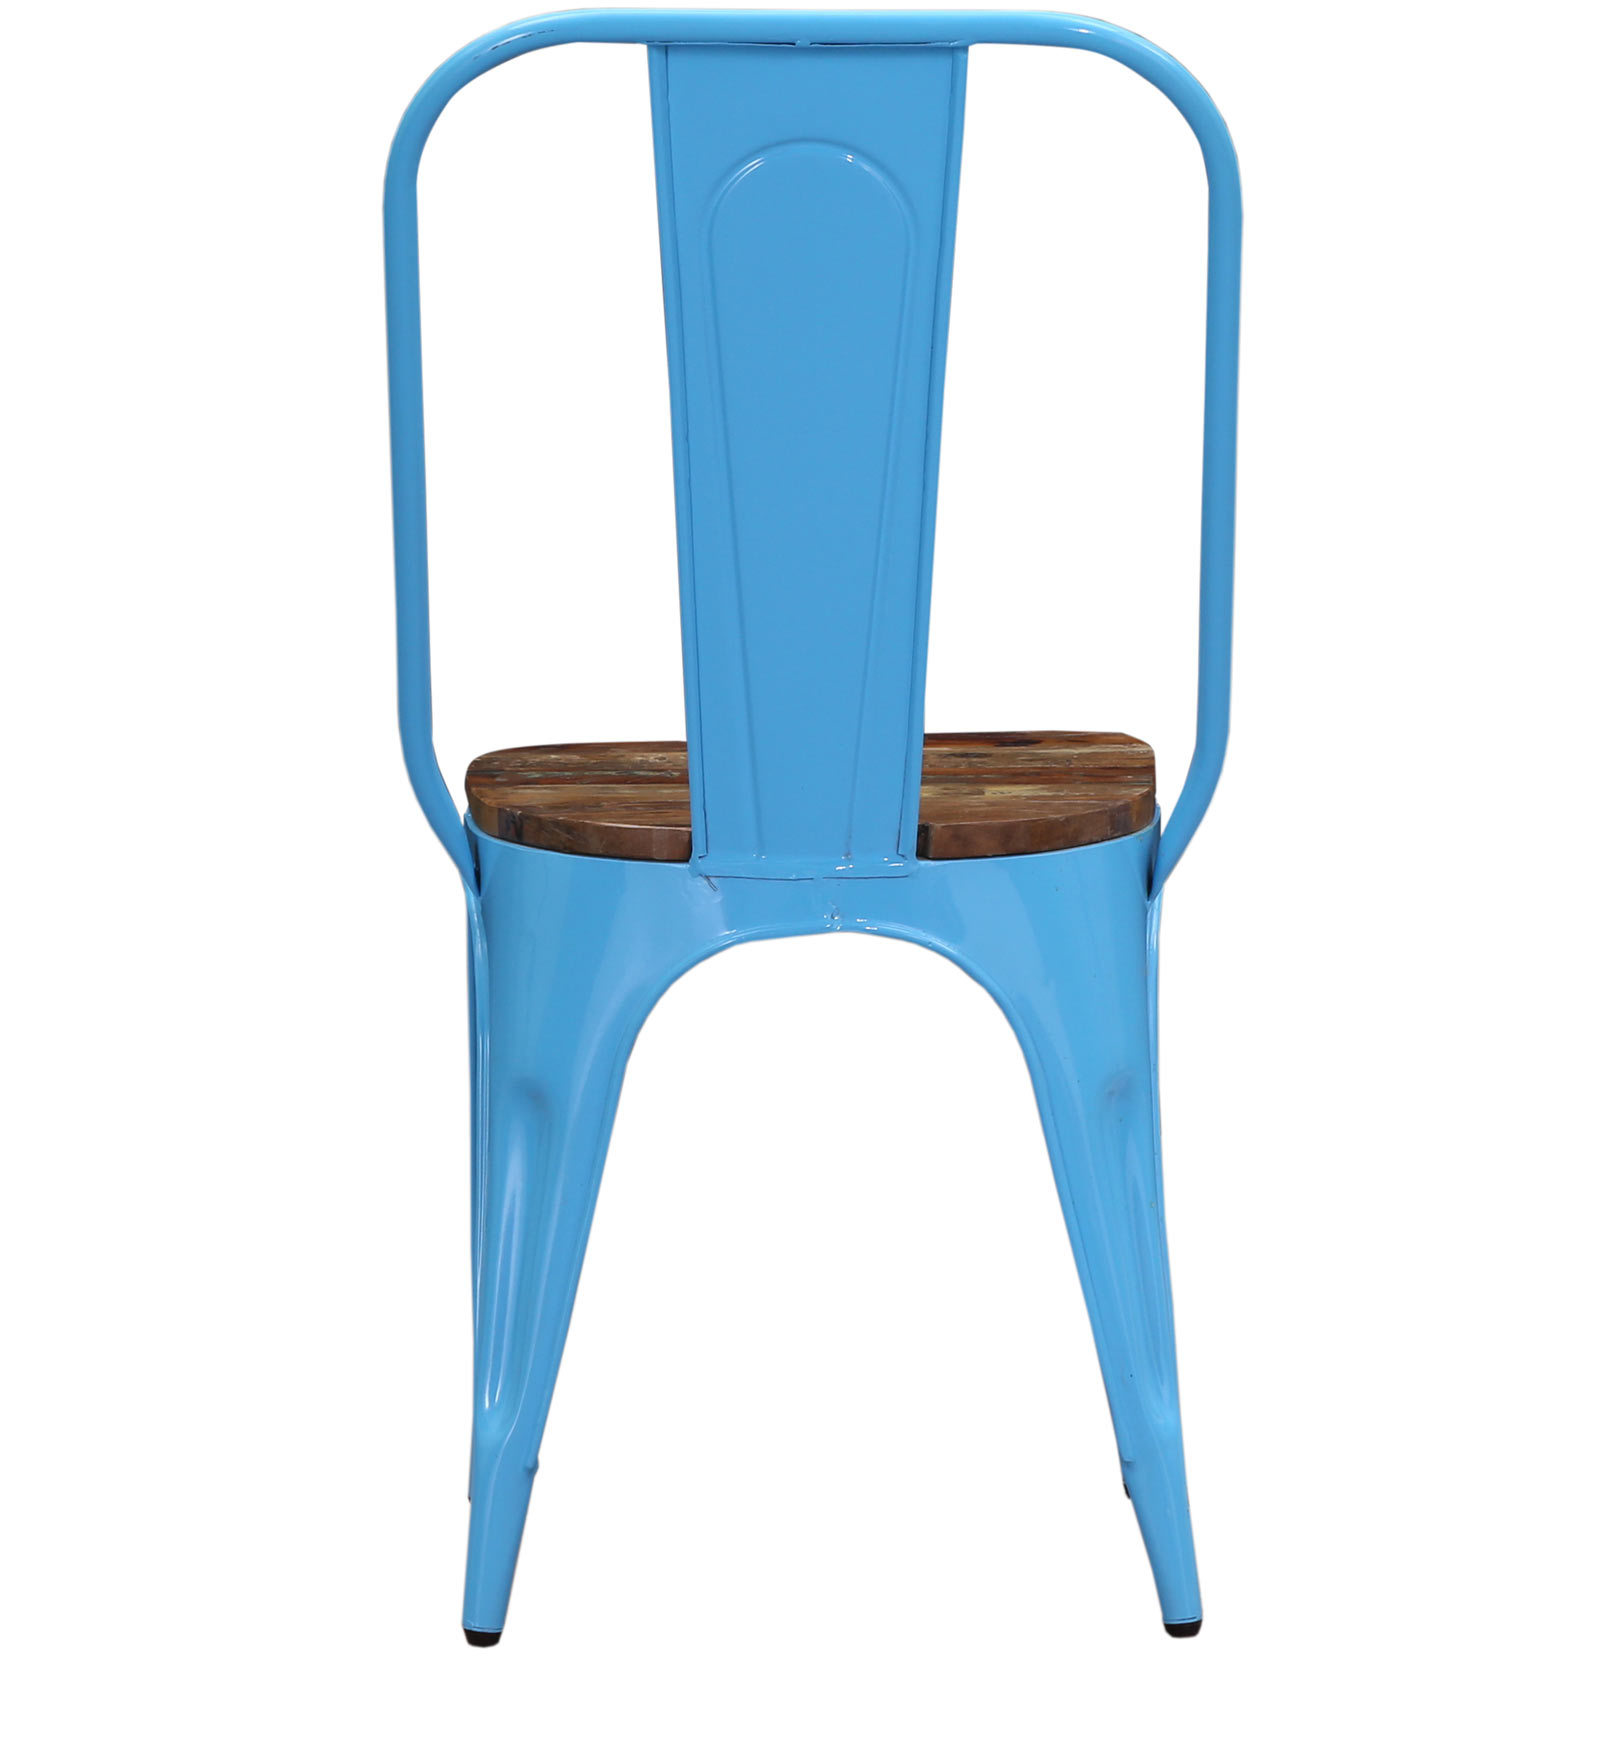Kumtor Metal Chair in Sky Blue Color with Wooden Seat by Bohemiana: (343, 9, 1263, 1680)
